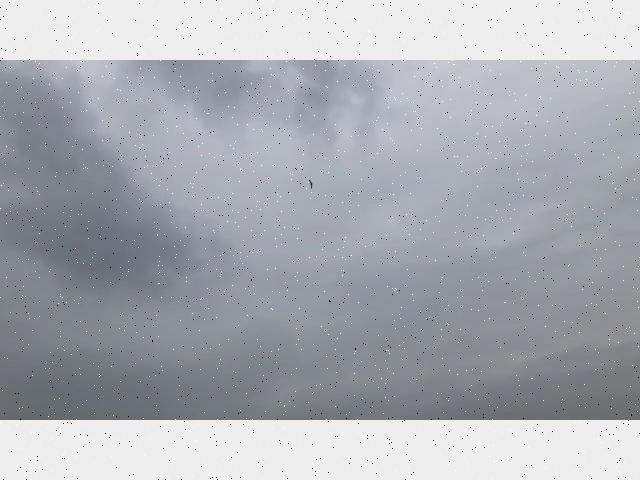Anti-Drone: (304, 176, 320, 192)
